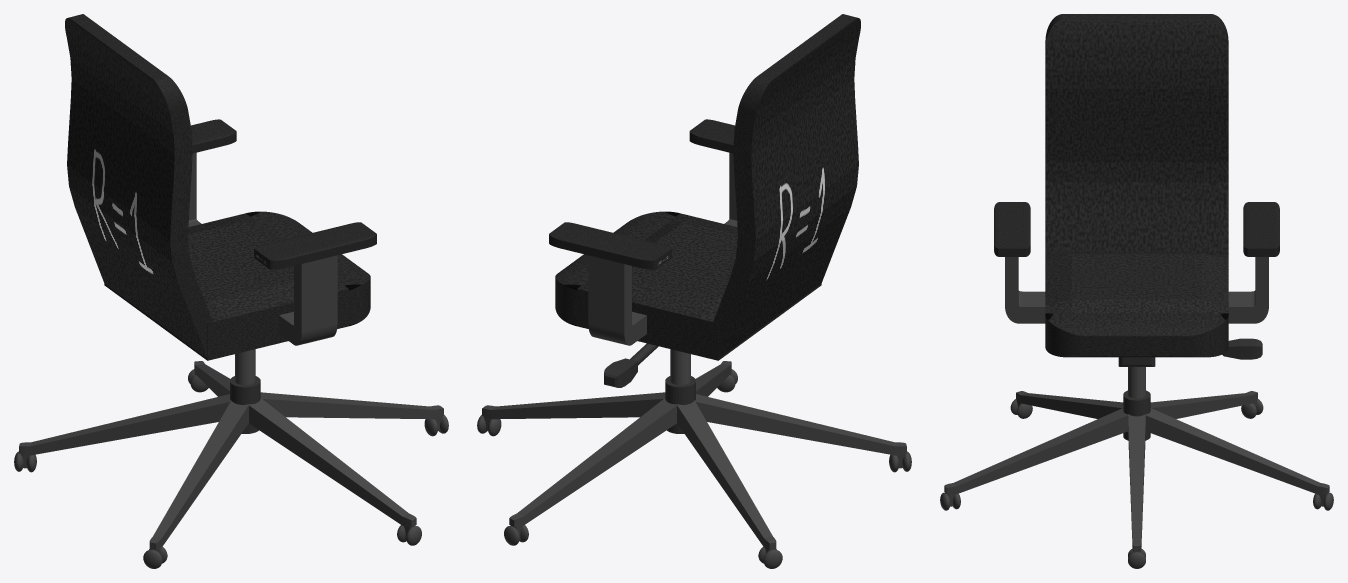
The model's file is Office_Chair_R=1.glb.
The picture shows the model from 3 angles, left to right: view 1: azimuth 30°, elevation 25°; view 2: azimuth 150°, elevation 25°; view 3: azimuth 270°, elevation 25°; orthographic projection. The views are drawn at different scales.
Visible parts, largest first — view 1: Cube.001, Cube.004, Cube, Cube.006, Cube.008, Cube.007, Cylinder.002, Cylinder.001; view 2: Cube.001, Cube.004, Cube, Cube.005, Cube.007, Cube.008, Cylinder.002, Cube.003, Cylinder.001; view 3: Cube.001, Cube, Cube.004, Cube.007, Cube.008, Cube.005, Cube.006, Cube.003, Cylinder.002, Cylinder.001.
Boxes of the visible parts, x1,y1,x2,y2 form: Cube.001: (65, 14, 212, 358); Cube.004: (14, 361, 448, 568); Cube: (104, 211, 370, 360); Cube.006: (279, 255, 337, 345); Cube.008: (254, 222, 376, 269); Cube.007: (191, 119, 236, 153); Cylinder.002: (230, 376, 260, 433); Cylinder.001: (235, 349, 255, 384); Cube.001: (713, 14, 860, 358); Cube.004: (477, 361, 911, 568); Cube: (555, 211, 821, 360); Cube.005: (588, 255, 646, 345); Cube.007: (549, 222, 671, 269); Cube.008: (689, 119, 734, 153); Cylinder.002: (665, 376, 695, 433); Cube.003: (604, 358, 637, 387); Cylinder.001: (670, 349, 690, 384); Cube.001: (1045, 14, 1228, 254); Cube: (1045, 252, 1228, 357); Cube.004: (940, 391, 1333, 568); Cube.007: (1243, 202, 1279, 256); Cube.008: (994, 202, 1030, 256); Cube.005: (1228, 257, 1268, 323); Cube.006: (1005, 257, 1045, 323); Cube.003: (1222, 338, 1262, 359); Cylinder.002: (1123, 390, 1150, 440); Cylinder.001: (1128, 367, 1145, 398).
Size of the model in its own units: 2.05 by 2.48 by 2.15.
7 materials, 1 textured.
